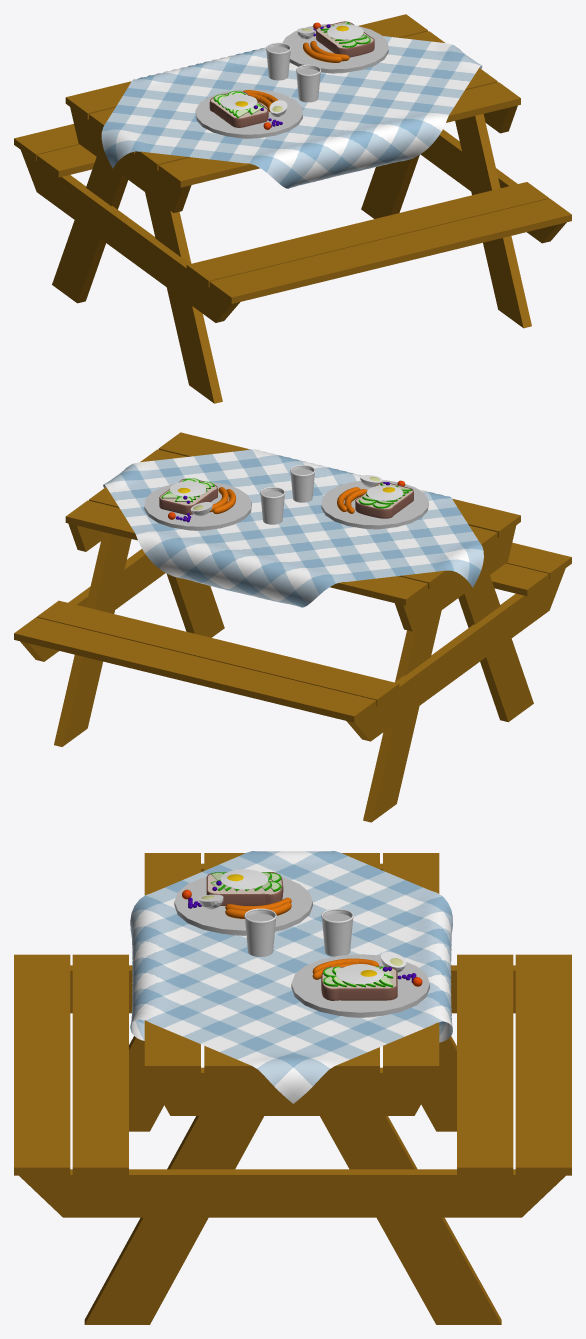
The model's file is table_4.fbx.
The picture shows the model from 3 angles, top to bottom: view 1: azimuth 30°, elevation 25°; view 2: azimuth 150°, elevation 25°; view 3: azimuth 270°, elevation 25°; orthographic projection. The views are drawn at different scales.
Visible parts, largest first — view 1: polySurface312; view 2: polySurface312; view 3: polySurface312.
Part boxes in pixels (x1,y1,x2,y2): polySurface312: (14,14,571,403); polySurface312: (14,432,571,822); polySurface312: (14,851,571,1324).
Bounding box in the file's own units: 0.4416 × 0.2838 × 0.4586.
18 materials, 1 textured.
